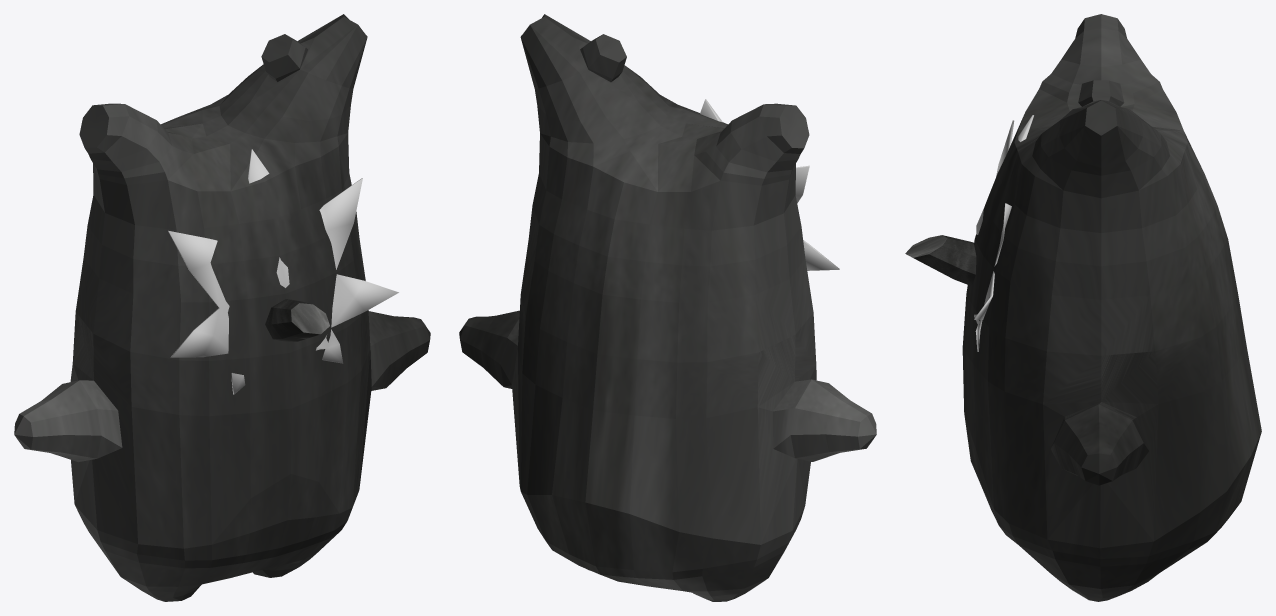
File: frame_0005.obj
3 views of the same model, side by side, from view 1: azimuth 30°, elevation 25°; view 2: azimuth 150°, elevation 25°; view 3: azimuth 270°, elevation 25° (orthographic).
Parts seen in each view (by area): view 1: korok, leaf, nose.003_柱体.011; view 2: korok, leaf; view 3: korok, nose.003_柱体.011, leaf.
Part boxes in pixels (x1,y1,x2,y2): korok: (14,14,430,601); leaf: (168,149,398,394); nose.003_柱体.011: (265,299,329,341); korok: (459,14,876,601); leaf: (700,99,839,270); korok: (962,14,1261,601); nose.003_柱体.011: (905,235,976,286); leaf: (974,115,1033,351).
Size of the model in its own units: 1.92 by 2.38 by 1.44.
